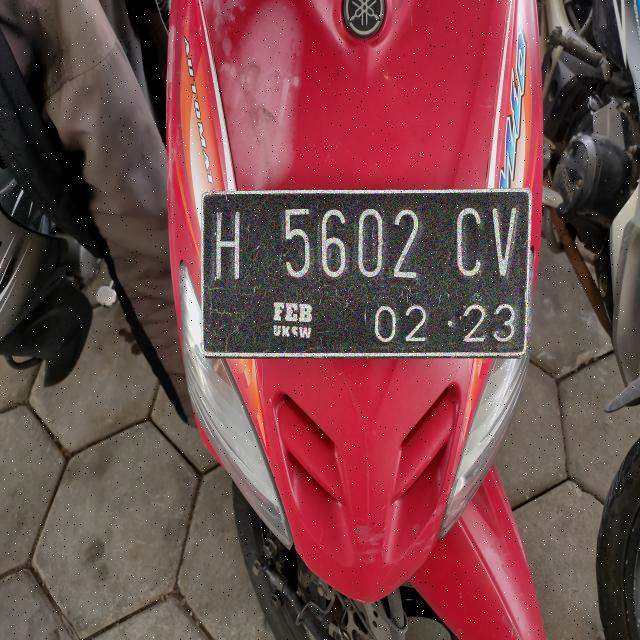plate: (203, 190, 530, 356)
